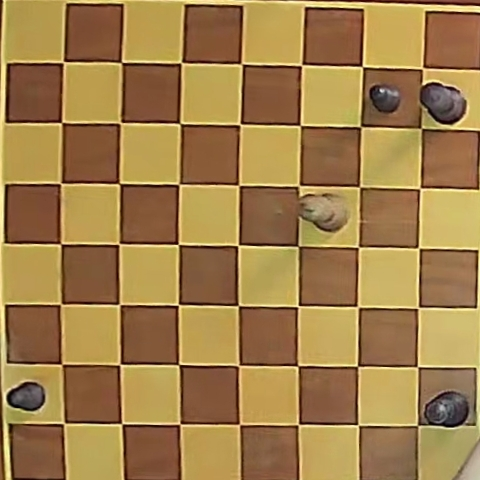black-king: (419, 82, 466, 124)
black-pawn: (7, 381, 46, 412), (370, 83, 402, 113)
black-queen: (423, 390, 470, 428)
white-king: (301, 194, 350, 232)
